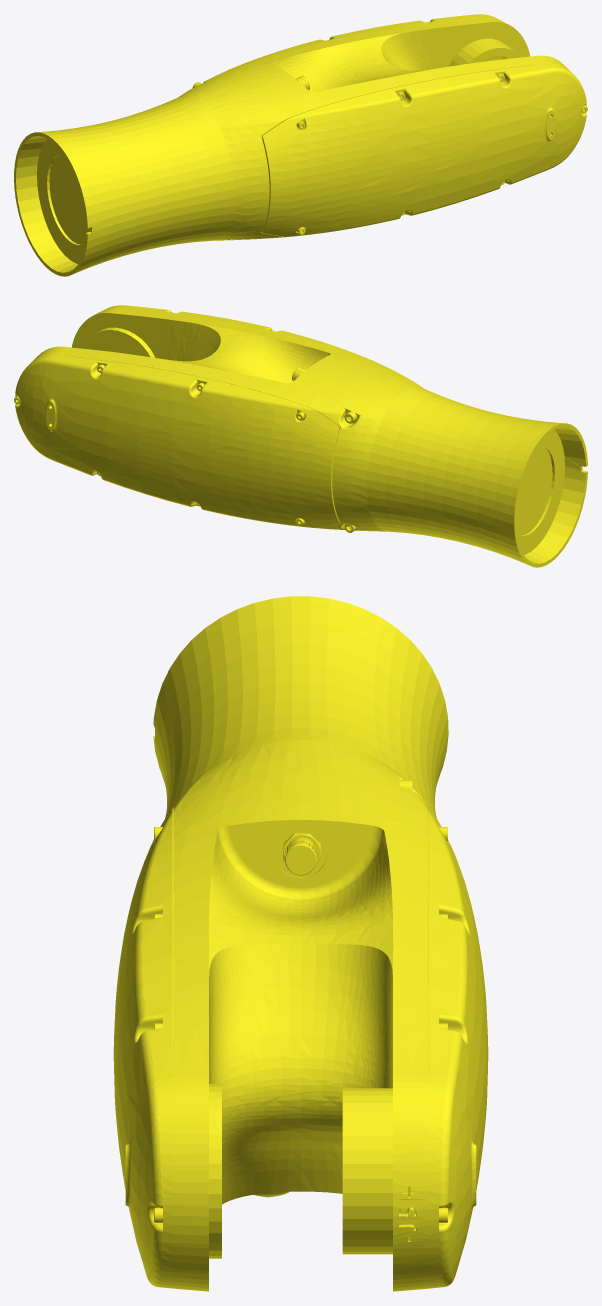
The picture shows the model from 3 angles, top to bottom: view 1: azimuth 30°, elevation 25°; view 2: azimuth 150°, elevation 25°; view 3: azimuth 270°, elevation 25°; orthographic projection. The views are drawn at different scales.
Parts seen in each view (by area): view 1: Link4; view 2: Link4; view 3: Link4.
Boxes of the visible parts, x1,y1,x2,y2 form: Link4: (14, 14, 587, 276); Link4: (14, 305, 587, 567); Link4: (113, 596, 488, 1291).
Bounding box in the file's own units: 0.5301 × 0.171 × 0.1486.
